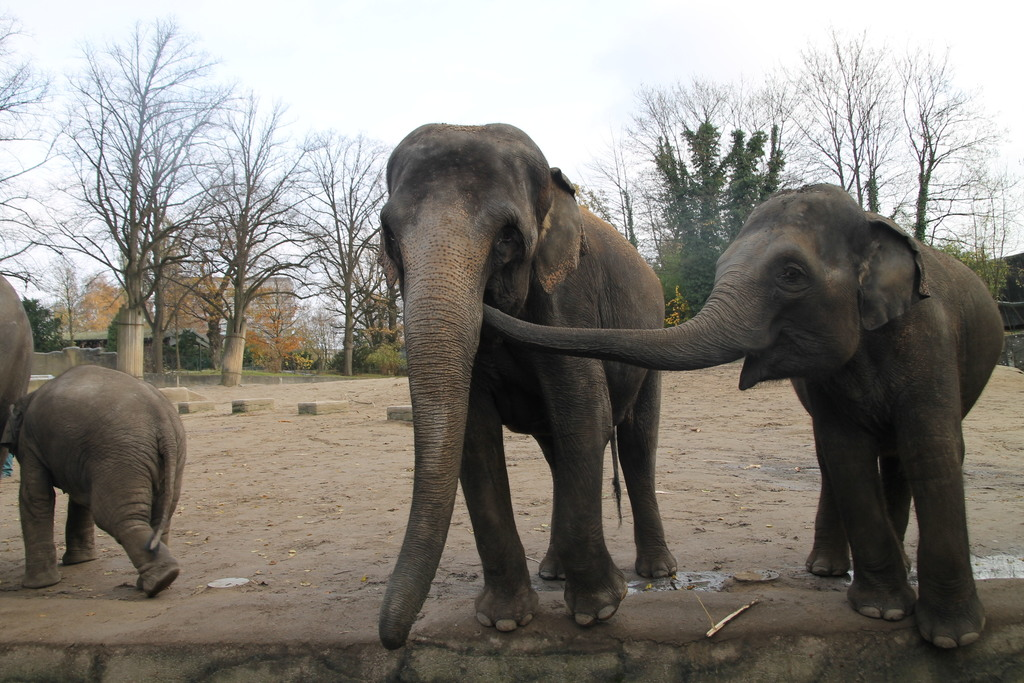Tree: (0, 11, 402, 389), (582, 31, 1024, 322)
